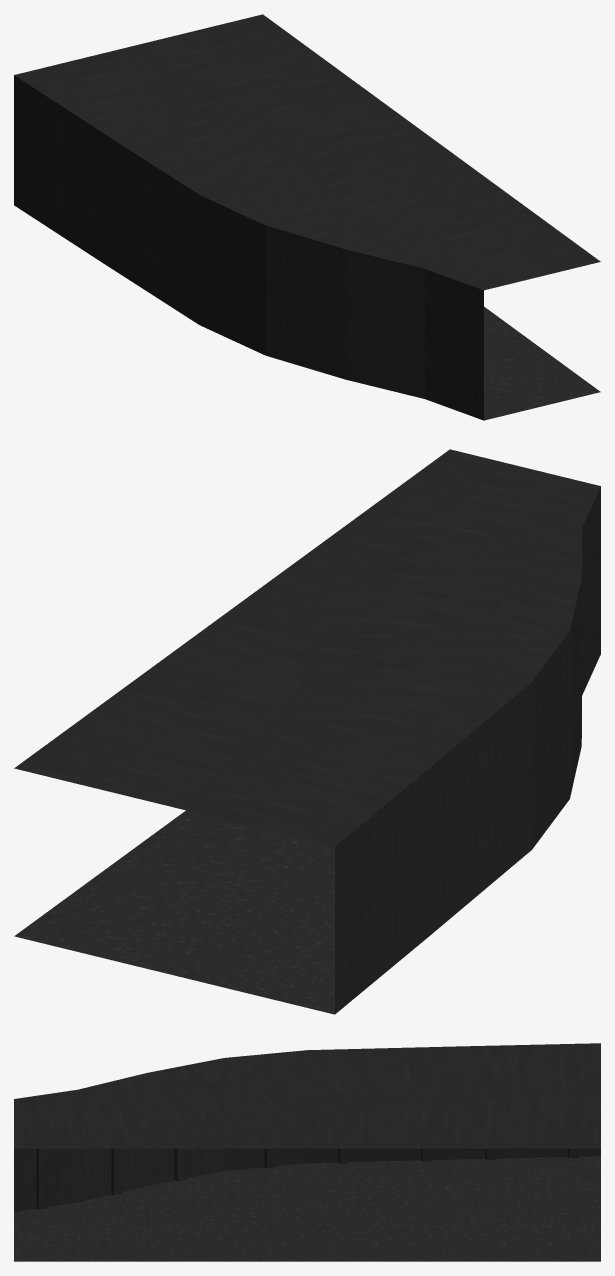
Rendered from SW_ENV_RailTunnel_SingleToDouble.fbx.
The picture shows the model from 3 angles, top to bottom: view 1: azimuth 30°, elevation 25°; view 2: azimuth 150°, elevation 25°; view 3: azimuth 270°, elevation 25°; orthographic projection. The views are drawn at different scales.
Visible parts, largest first — view 1: SW_ENV_RailTunnel_SingleToDouble; view 2: SW_ENV_RailTunnel_SingleToDouble; view 3: SW_ENV_RailTunnel_SingleToDouble.
Part boxes in pixels (box(x1,y1,x2,y2)): SW_ENV_RailTunnel_SingleToDouble: box(14, 14, 600, 420); SW_ENV_RailTunnel_SingleToDouble: box(14, 449, 600, 1014); SW_ENV_RailTunnel_SingleToDouble: box(14, 1043, 600, 1261).
Bounding box in the file's own units: 850 × 425 × 2000.
